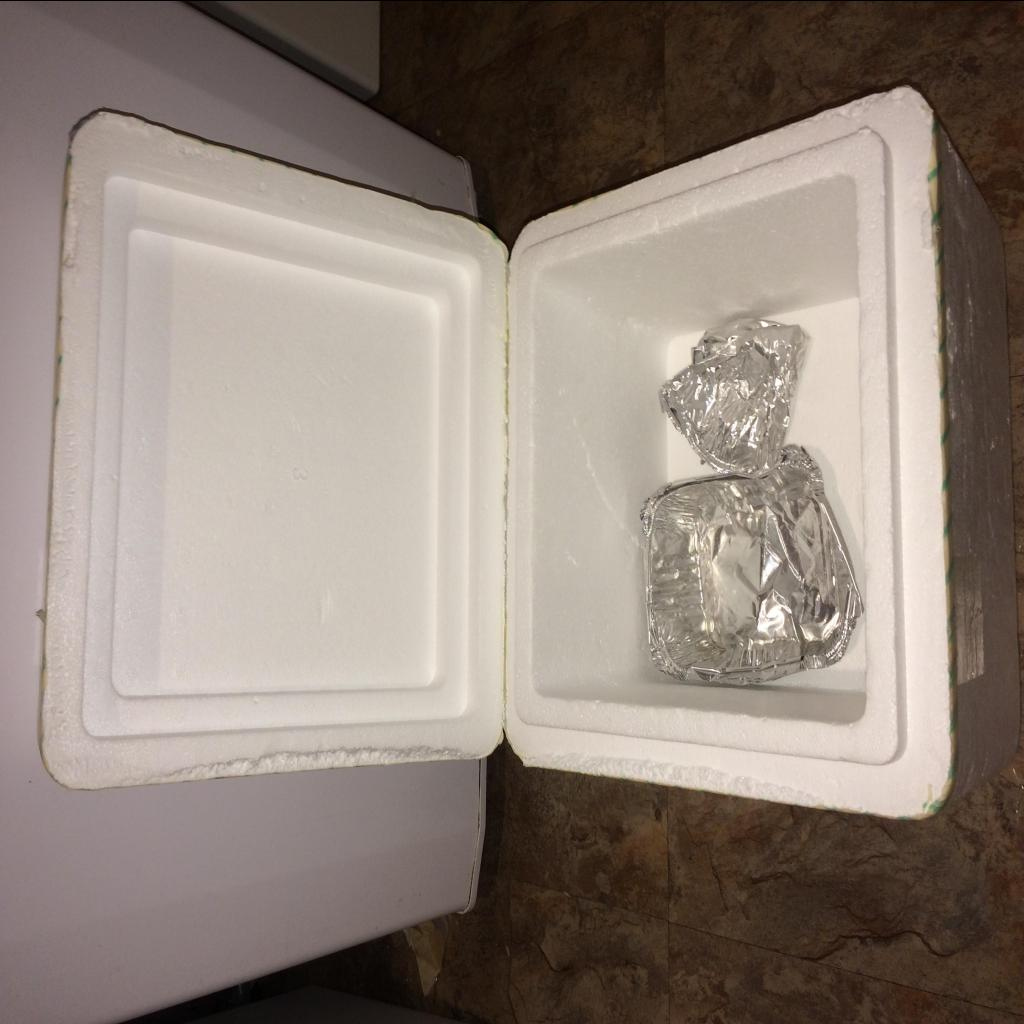Aluminium foil: (640, 432, 864, 686), (658, 316, 811, 472)
Styrofoam piece: (39, 83, 1019, 819)
